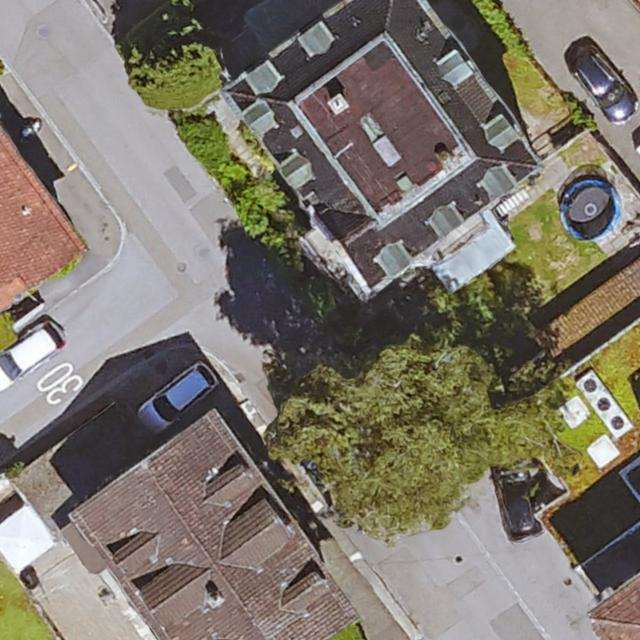tree: (276, 337, 561, 537), (128, 37, 223, 99)
